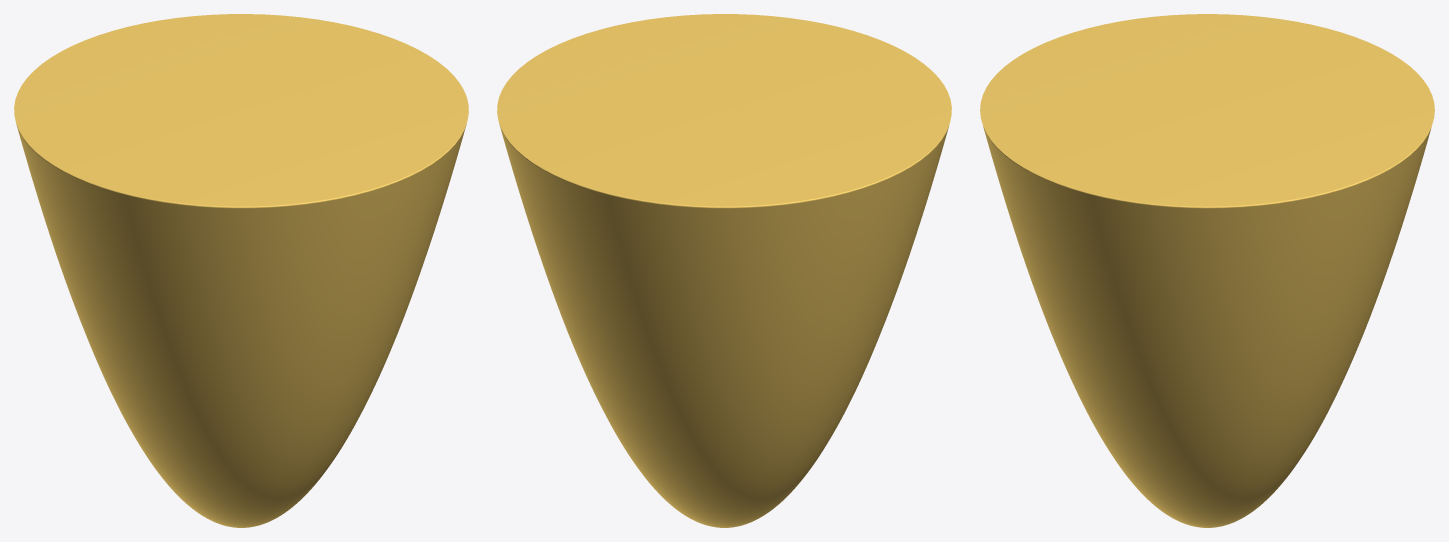
The model's file is paravoloeides.glb.
3 views of the same model, side by side, from view 1: azimuth 30°, elevation 25°; view 2: azimuth 150°, elevation 25°; view 3: azimuth 270°, elevation 25° (orthographic).
Parts seen in each view (by area): view 1: paravoloeides; view 2: paravoloeides; view 3: paravoloeides.
Boxes of the visible parts, x1,y1,x2,y2 form: paravoloeides: [14, 14, 468, 527]; paravoloeides: [497, 14, 951, 527]; paravoloeides: [980, 14, 1434, 527].
Size of the model in its own units: 0.1963 by 0.1963 by 0.1963.
